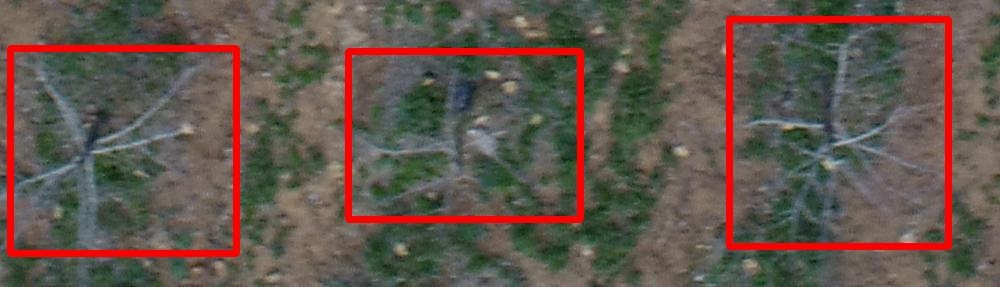apple: (729, 19, 948, 246), (10, 48, 236, 253), (348, 51, 580, 219)
